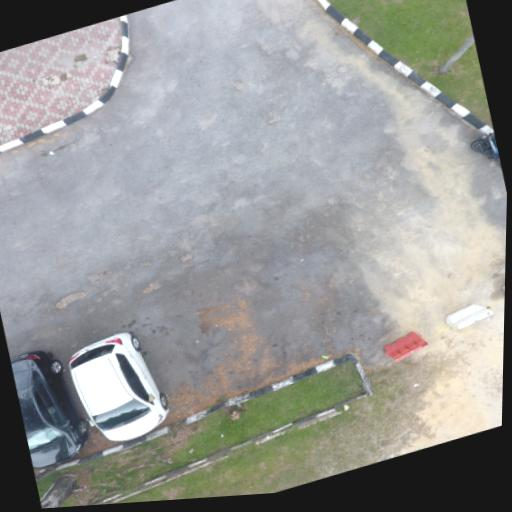pothole: (55, 292, 86, 309), (141, 281, 160, 294), (180, 253, 192, 263), (267, 115, 280, 124)
